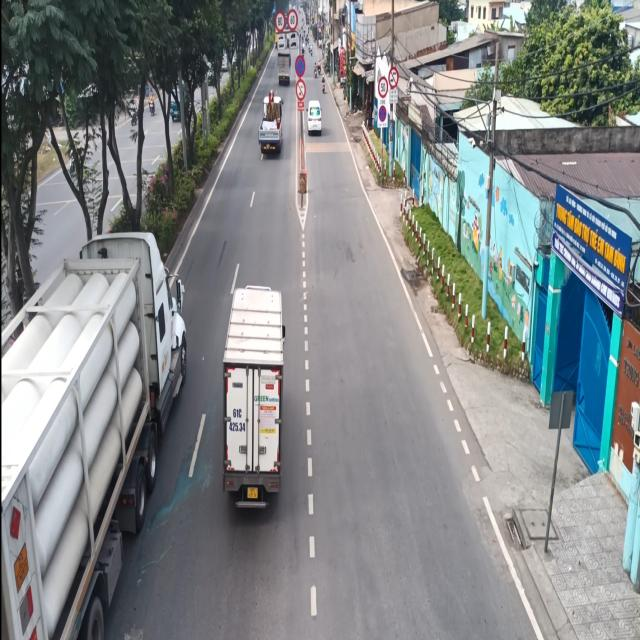car: (306, 94, 324, 138)
truck: (0, 222, 190, 640), (221, 276, 290, 521), (254, 87, 287, 159)
